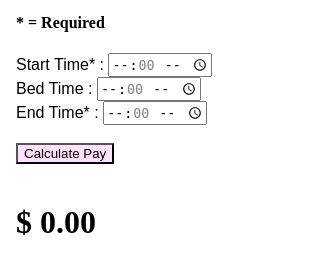
Test: Babysitter › 5 p.m. to 1 a.m., 5 a.m. bedtime
The image size is (320, 256).
Type "17:00" into the time field with id "startTime" at (160, 65), box [108,53,212,77]
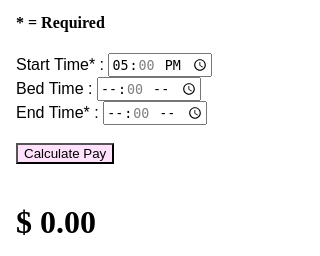
Type "17:00" into the time field with id "bedTime" at (149, 89), box [97,77,201,101]
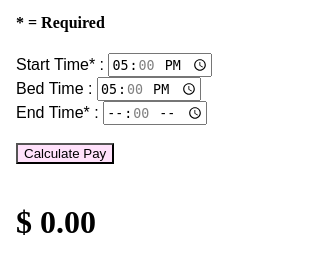
Type "01:00" into the time field with id "endTime" at (155, 113), box [103,101,207,125]
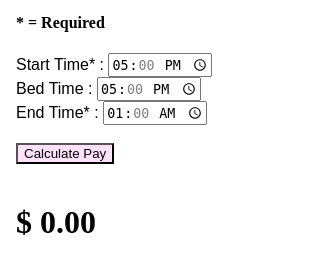
Click the button with id "calcPayBtn" at (65, 154), box [16,143,114,164]
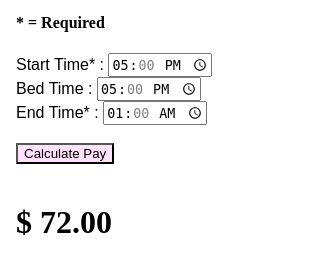
Result: the heading "$ 72.00" is shown at [16,204,112,240]
